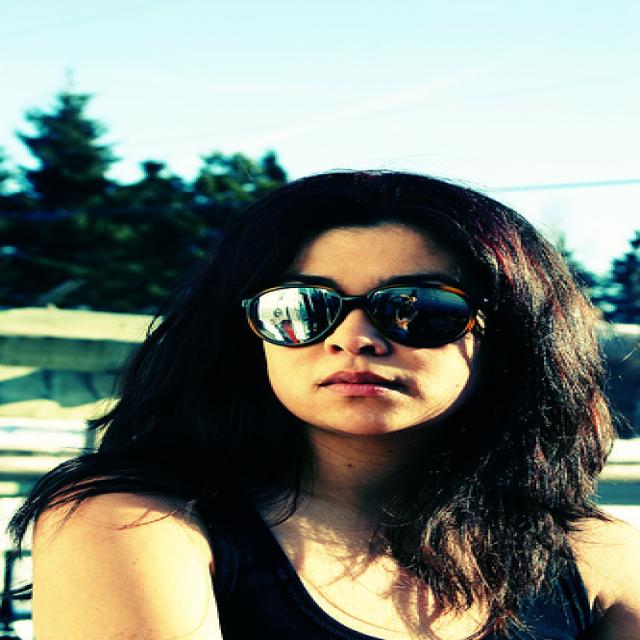person: (15, 166, 639, 640)
